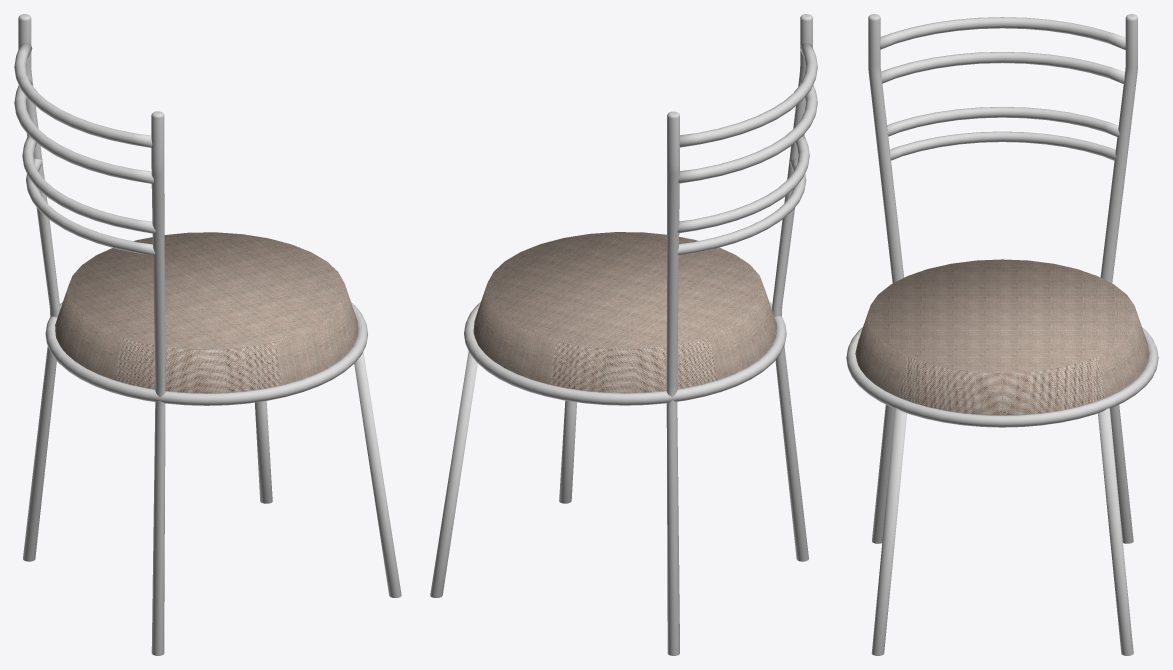
The model's file is chair.glb.
3 renders of one model, left to right at view 1: azimuth 30°, elevation 25°; view 2: azimuth 150°, elevation 25°; view 3: azimuth 270°, elevation 25°, orthographic. The views are drawn at different scales.
Parts seen in each view (by area): view 1: Circle, Cylinder.003, Torus; view 2: Circle, Cylinder.003, Torus; view 3: Circle, Cylinder.003, Torus.
Part boxes in pixels (box(x1,y1,x2,y2)): Circle: box(55, 232, 358, 393); Cylinder.003: box(14, 14, 401, 655); Torus: box(45, 302, 367, 405); Circle: box(473, 232, 776, 393); Cylinder.003: box(430, 14, 817, 655); Torus: box(464, 301, 786, 405); Circle: box(855, 259, 1149, 415); Cylinder.003: box(868, 14, 1137, 655); Torus: box(846, 327, 1158, 427).
Bounding box in the file's own units: 1.07 × 1.8 × 0.9727.
Materials: 2 (1 with a texture image).
